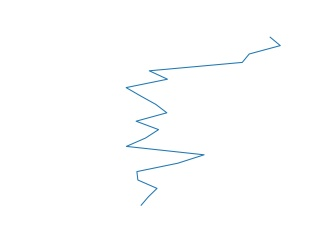crevasseRiverChannelBar: (118, 32, 285, 206)
